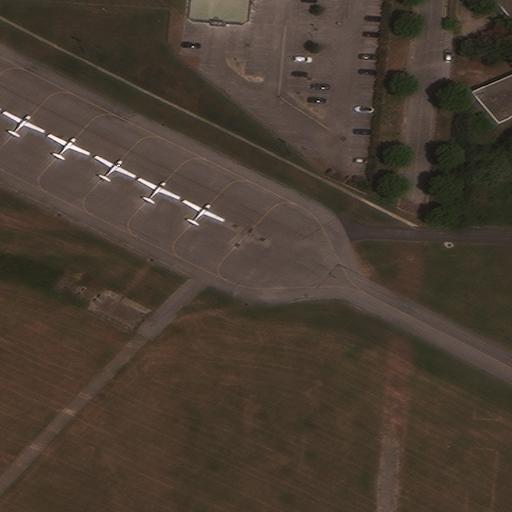Small Civil Transport: (49, 133, 91, 158), (5, 110, 45, 136), (183, 198, 224, 223), (95, 155, 136, 179), (139, 177, 180, 201)
